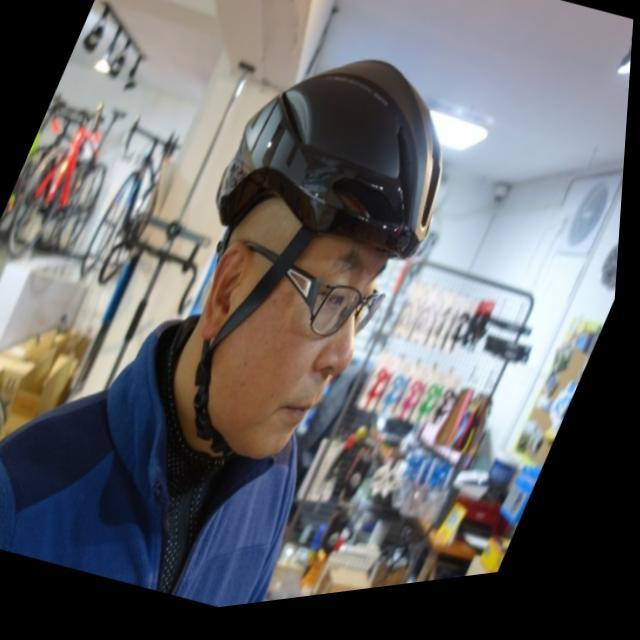Helmet: (176, 55, 448, 462)
